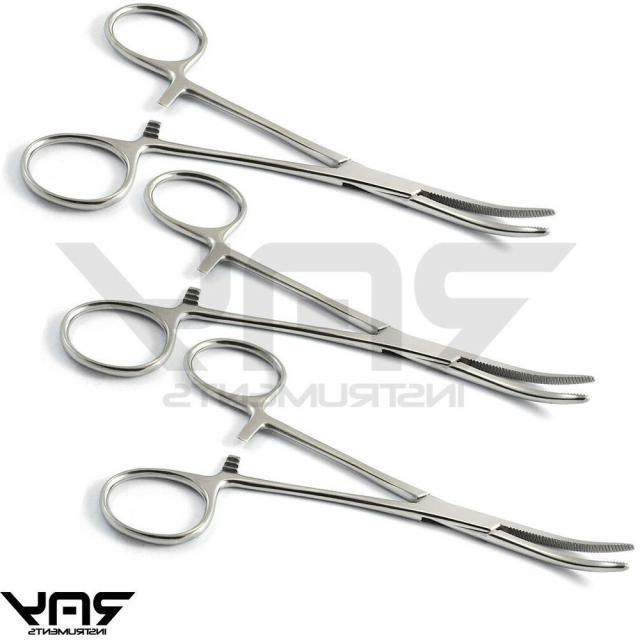Hemostat: (93, 322, 635, 578), (51, 162, 601, 410), (14, 0, 552, 243)
